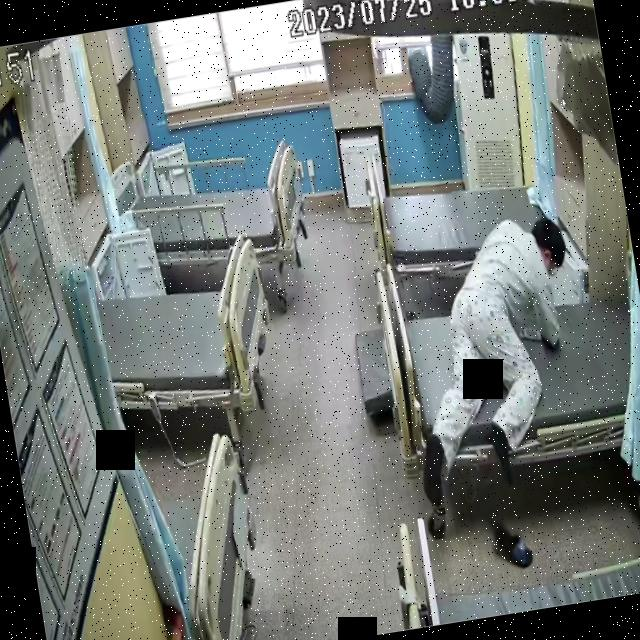bed: (369, 227, 640, 487), (361, 116, 568, 300), (95, 235, 282, 426), (127, 144, 310, 284)
danger: (383, 212, 602, 509)
patient: (381, 204, 602, 510)
